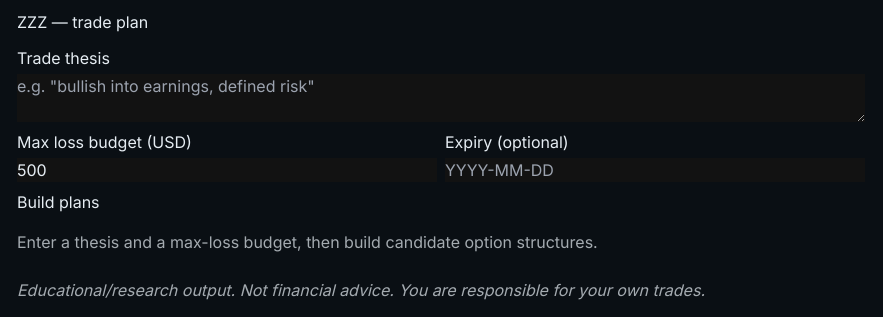
Test case: <Plan /> › surfaces HTTP errors from the server
Type "bull" into the text box labelled "Trade thesis" at (441, 98), box 17,74 -> 865,122
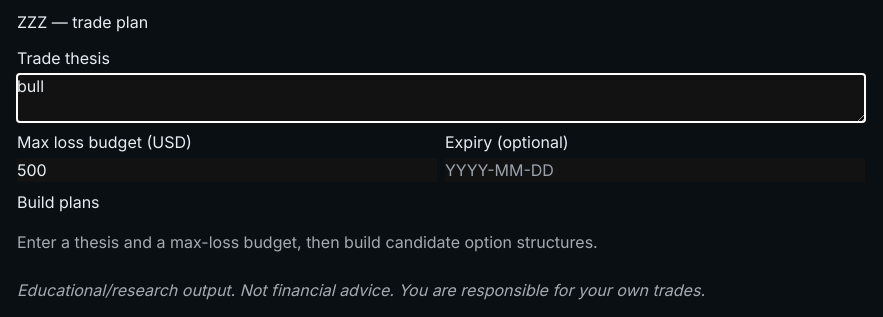
Click the button "Build plans" at (58, 202), box 17,190 -> 100,214
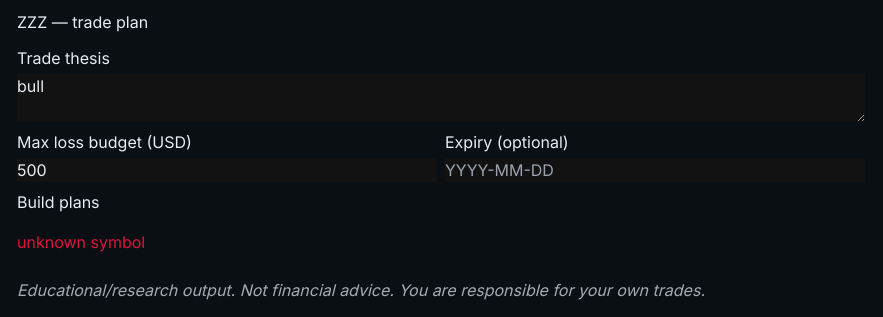
Now the message reads "unknown symbol", box 17,232 -> 145,252
